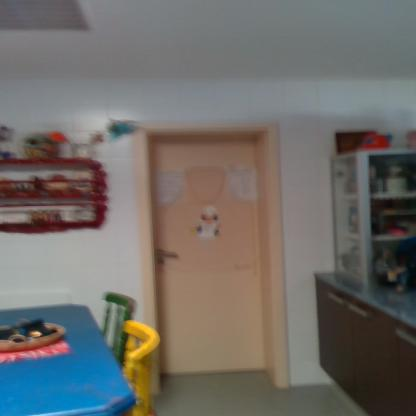door: (150, 142, 262, 381)
lever: (157, 250, 180, 258)
